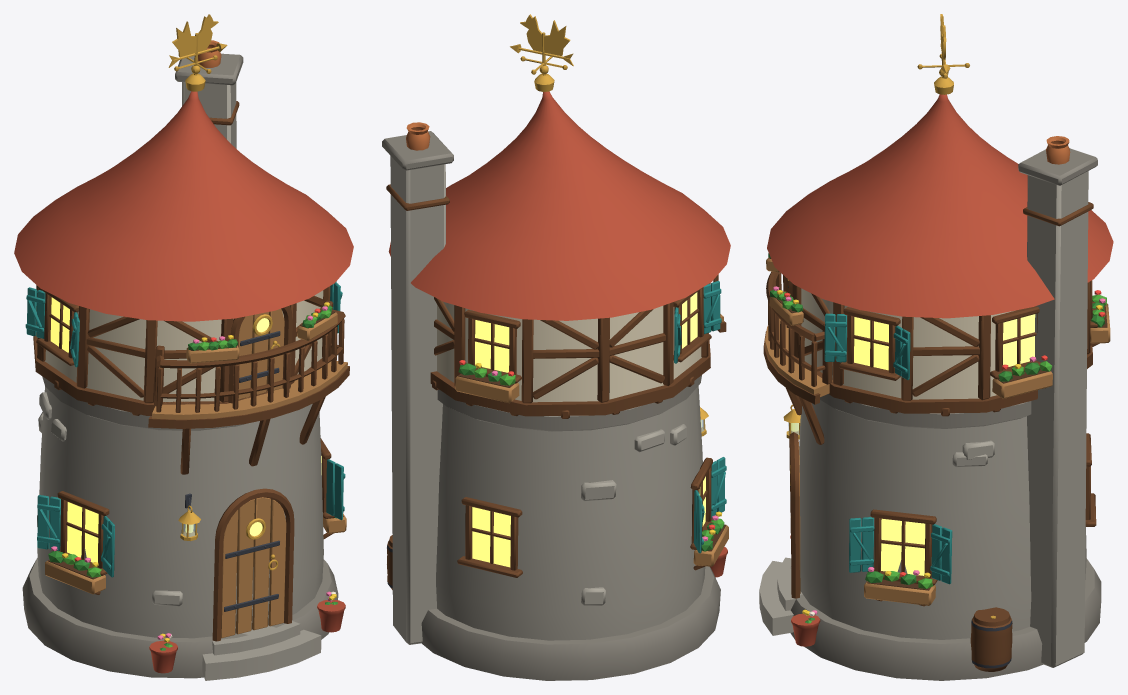
The model's file is bld_house_b.glb.
3 views of the same model, side by side, from view 1: azimuth 30°, elevation 25°; view 2: azimuth 150°, elevation 25°; view 3: azimuth 270°, elevation 25° (orthographic). The views are drawn at different scales.
Visible parts, largest first — view 1: HouseB; view 2: HouseB; view 3: HouseB.
Boxes of the visible parts, x1,y1,x2,y2 form: HouseB: [14, 14, 353, 680]; HouseB: [382, 14, 730, 680]; HouseB: [759, 14, 1113, 680].
Size of what is drawn, in the model's own units: 4.99 by 9.55 by 5.1.
